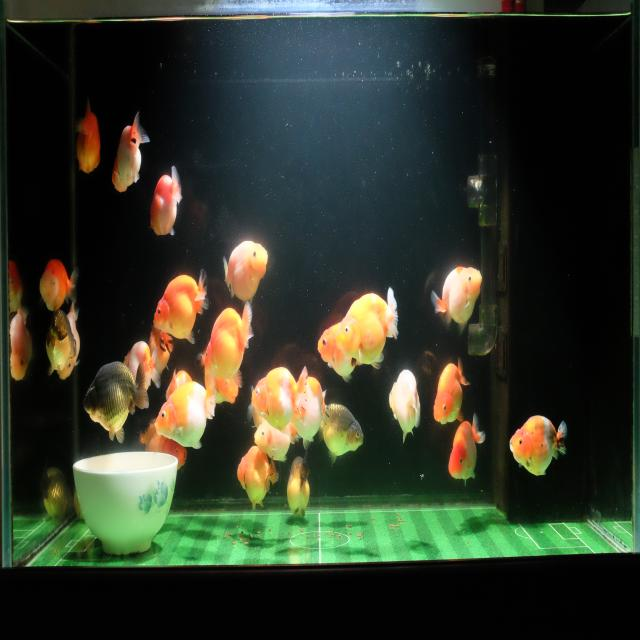Tilapia: (82, 357, 149, 446), (336, 284, 399, 371), (152, 378, 217, 454), (152, 269, 210, 347), (248, 363, 310, 434), (203, 301, 254, 384), (508, 412, 570, 479), (430, 262, 482, 336), (109, 111, 151, 195), (446, 410, 487, 491), (222, 238, 269, 306), (134, 416, 187, 476), (319, 400, 365, 466), (235, 443, 278, 513), (431, 354, 471, 429), (387, 364, 422, 446), (37, 253, 79, 321), (148, 163, 183, 240), (316, 321, 357, 386), (43, 306, 78, 382), (292, 373, 326, 448), (121, 336, 161, 398), (74, 100, 102, 176), (10, 304, 34, 386), (287, 451, 312, 524), (252, 420, 294, 462)
